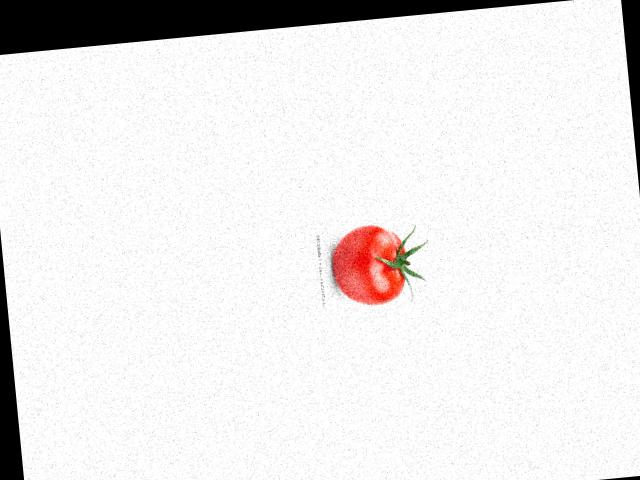tomato: (330, 221, 409, 308)
